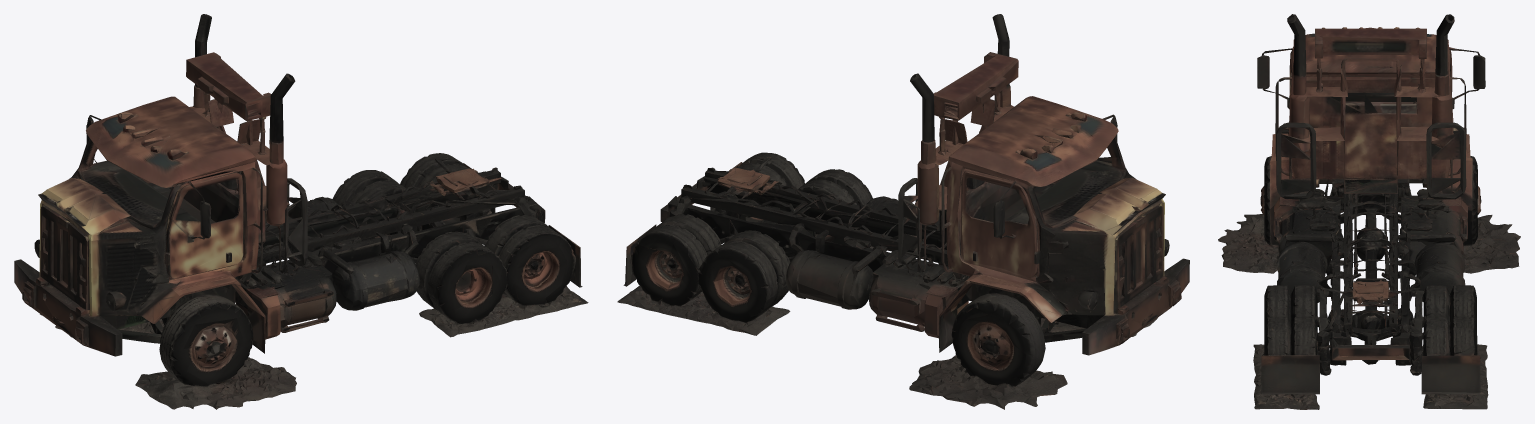
File: ash-wreck.glb
The picture shows the model from 3 angles, left to right: view 1: azimuth 30°, elevation 25°; view 2: azimuth 150°, elevation 25°; view 3: azimuth 270°, elevation 25°; orthographic projection. The views are drawn at different scales.
Parts seen in each view (by area): view 1: ash-wreck-Mesh_0.014; view 2: ash-wreck-Mesh_0.014; view 3: ash-wreck-Mesh_0.014.
Boxes of the visible parts, bbox=[...] form: ash-wreck-Mesh_0.014: bbox=[14, 14, 588, 409]; ash-wreck-Mesh_0.014: bbox=[617, 14, 1189, 409]; ash-wreck-Mesh_0.014: bbox=[1218, 14, 1520, 409].
Bounding box in the file's own units: 5 × 2.84 × 2.92.
1 material, 1 textured.
